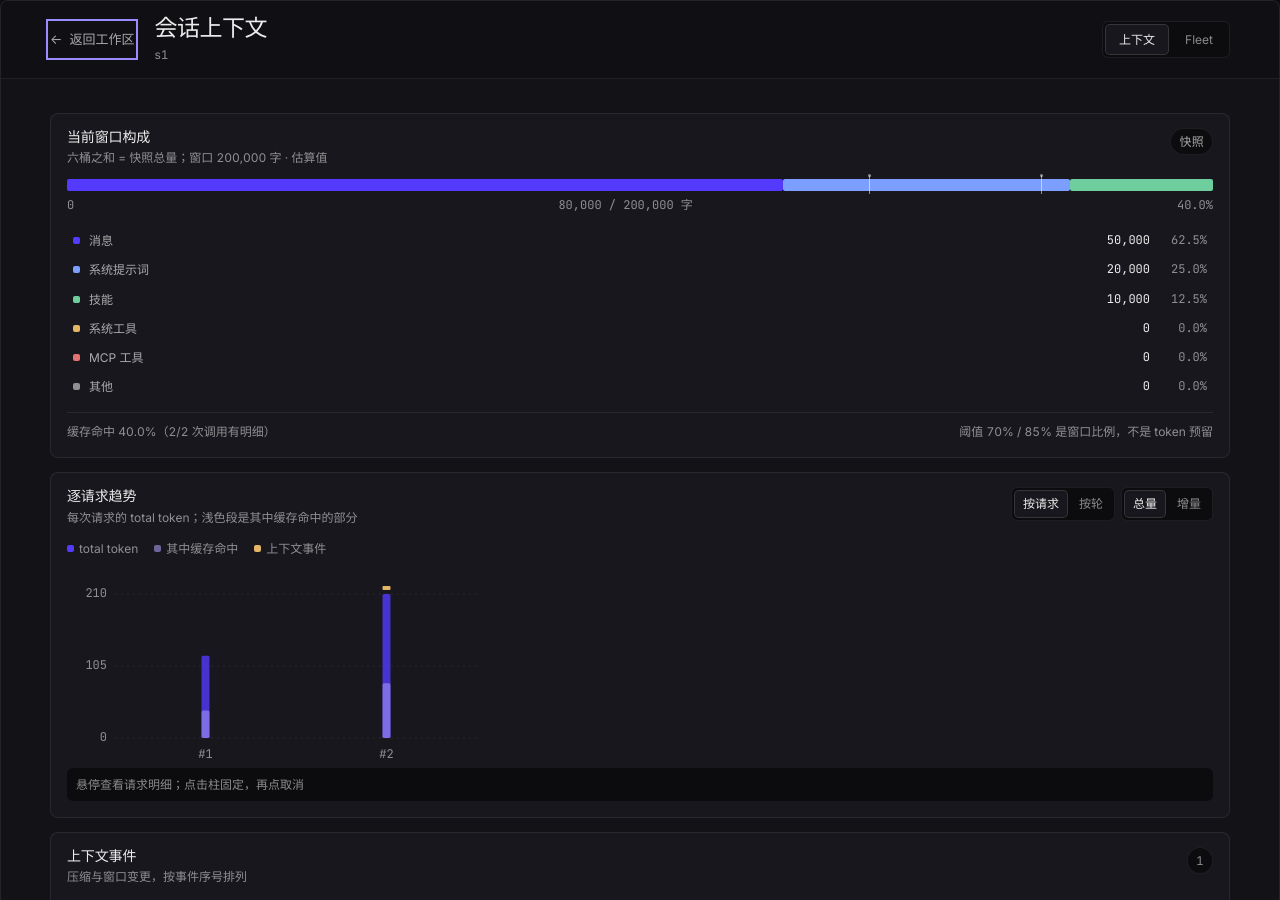
Test case: SessionInsightsPage › refetches the timeline when mode and granularity change
Click the button "增量". click: (1189, 504)
box: [1168,490,1210,518]
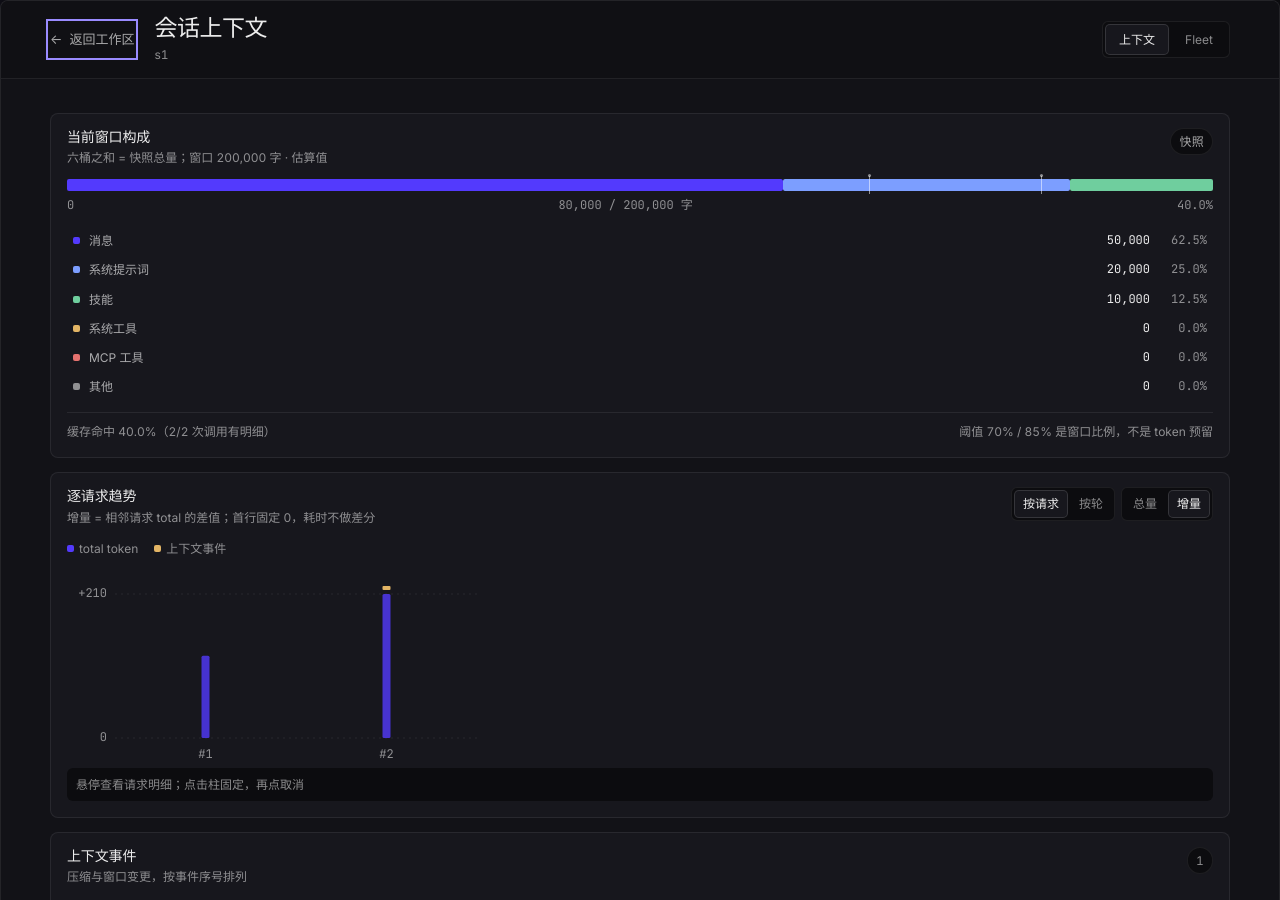
Click the button "按轮". click: (1091, 504)
box: [1070,490,1112,518]
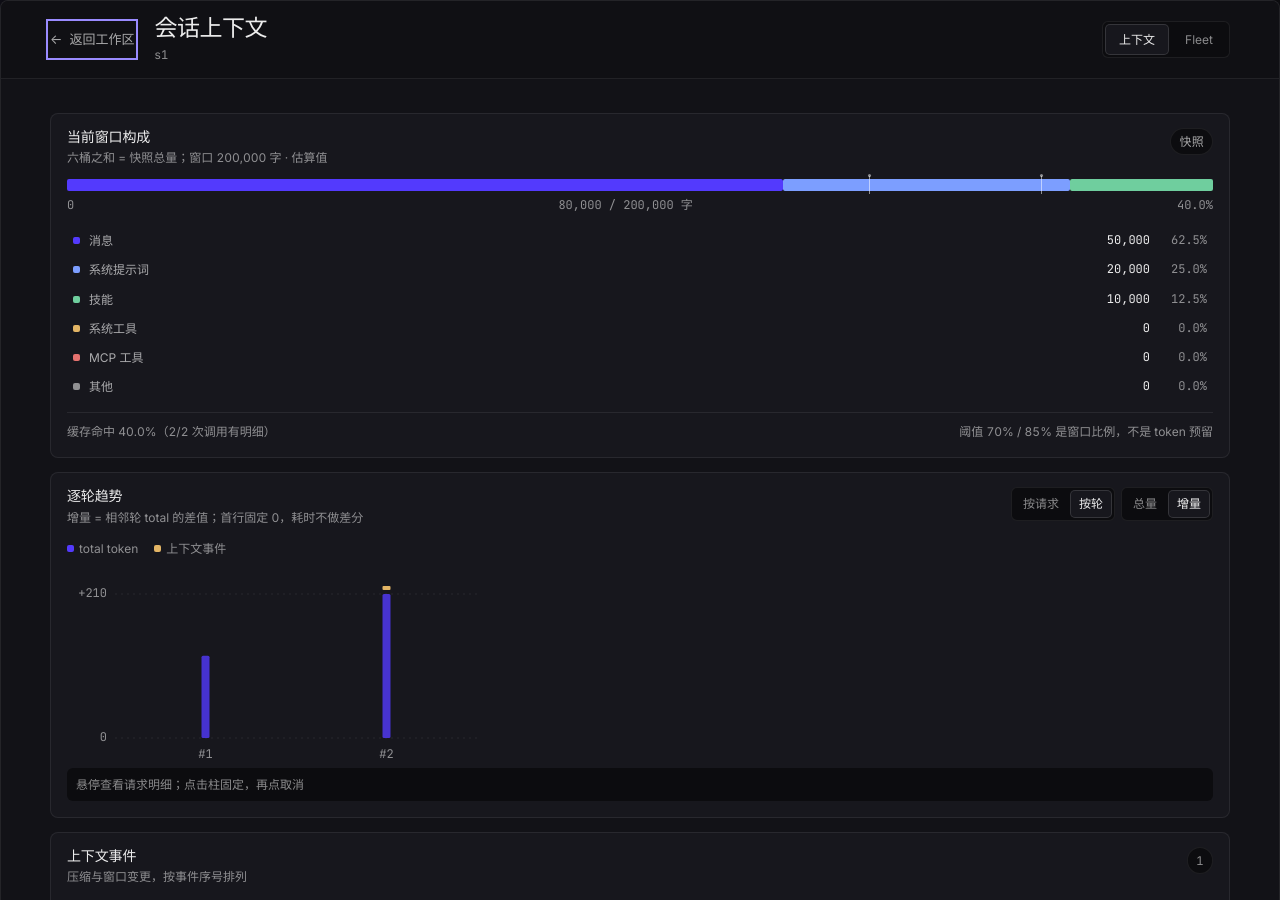
Expected: the text "逐轮趋势" is shown, [67,488,122,504]
